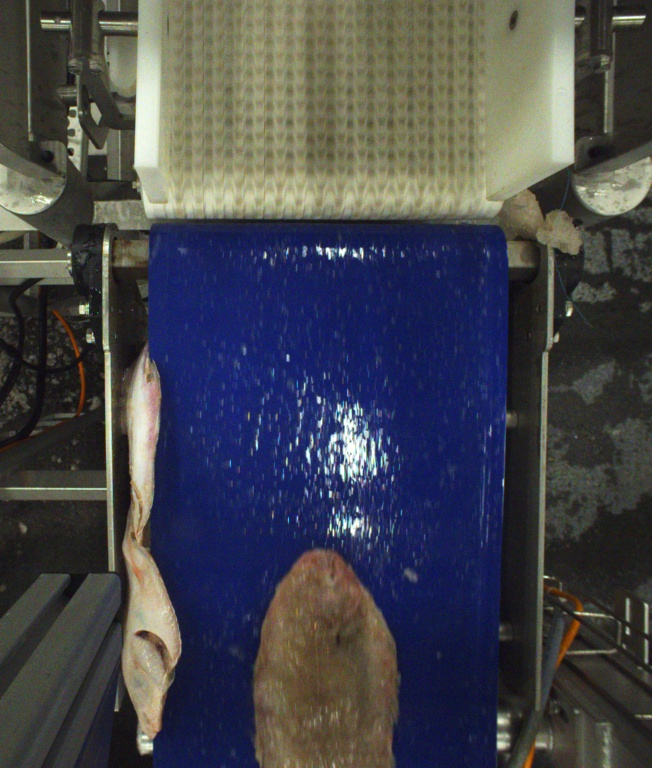SOL: (251, 548, 402, 768)
